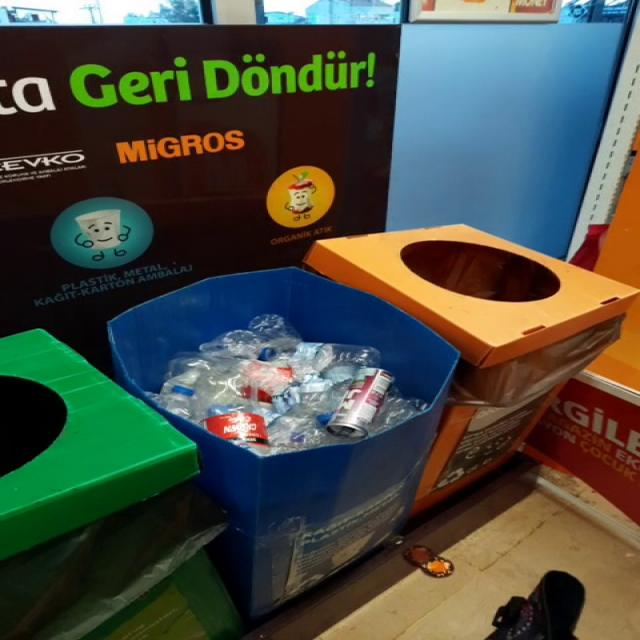metal: (327, 368, 395, 438)
